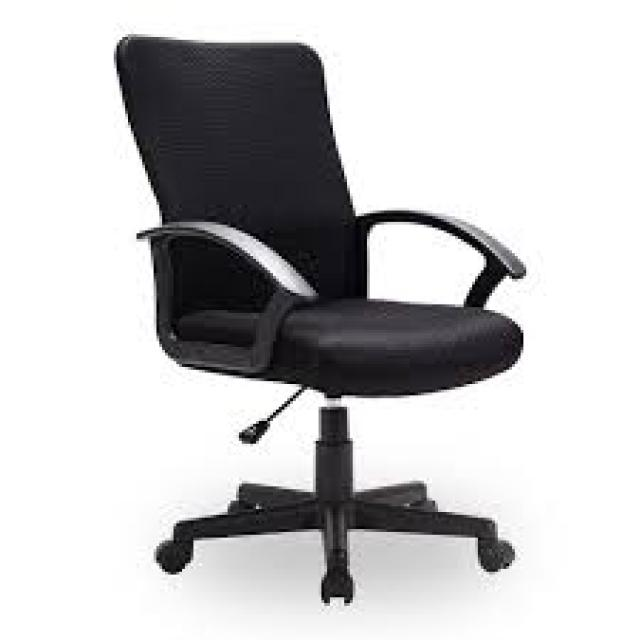chair: (82, 0, 555, 610)
